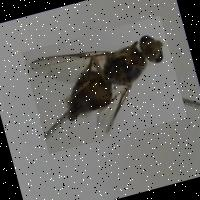Oriental-fruit-fly: (22, 16, 187, 154)
